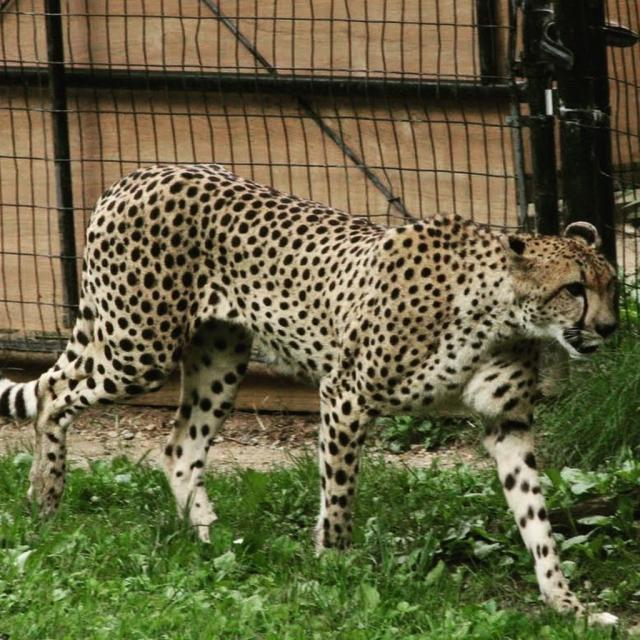Cheetah: (0, 157, 624, 633)
